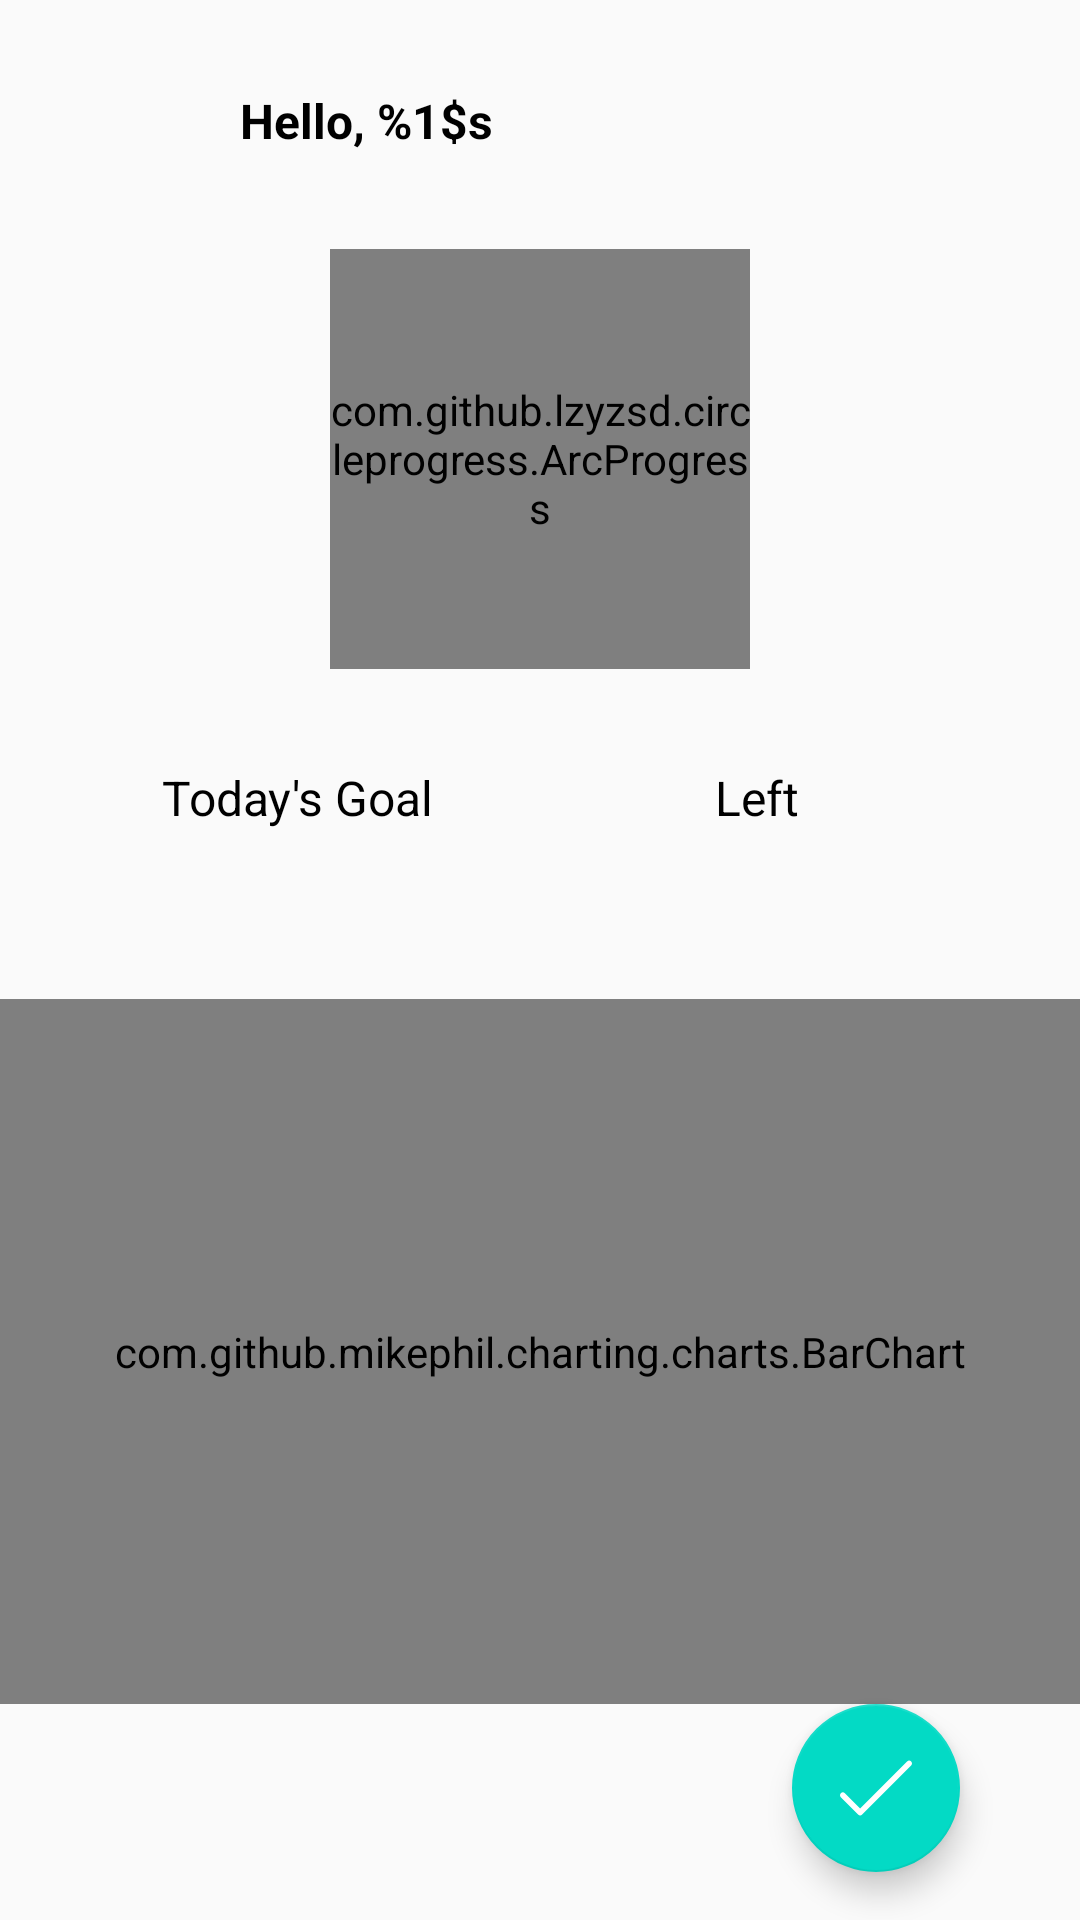

Icons on this 1080x1920 Android screen, each with the point to tap as (x,y):
tick: (876,1788)
